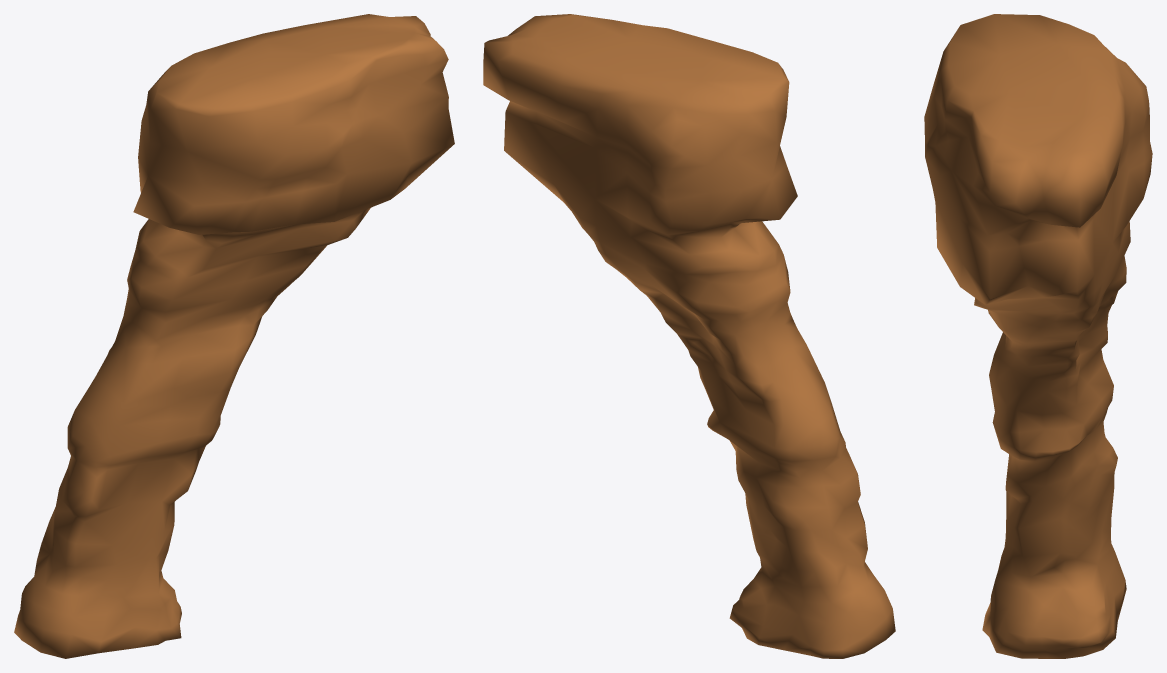
File: MSH_Rocks_Cliff_19_b.FBX
The picture shows the model from 3 angles, left to right: view 1: azimuth 30°, elevation 25°; view 2: azimuth 150°, elevation 25°; view 3: azimuth 270°, elevation 25°; orthographic projection. The views are drawn at different scales.
Parts seen in each view (by area): view 1: MESH_LOD0; view 2: MESH_LOD0; view 3: MESH_LOD0.
Part boxes in pixels (box(x1,y1,x2,y2)): MESH_LOD0: box(14, 14, 454, 658); MESH_LOD0: box(483, 14, 895, 658); MESH_LOD0: box(924, 14, 1152, 658).
Size of what is drawn, in the model's own units: 280 by 362 by 115.
